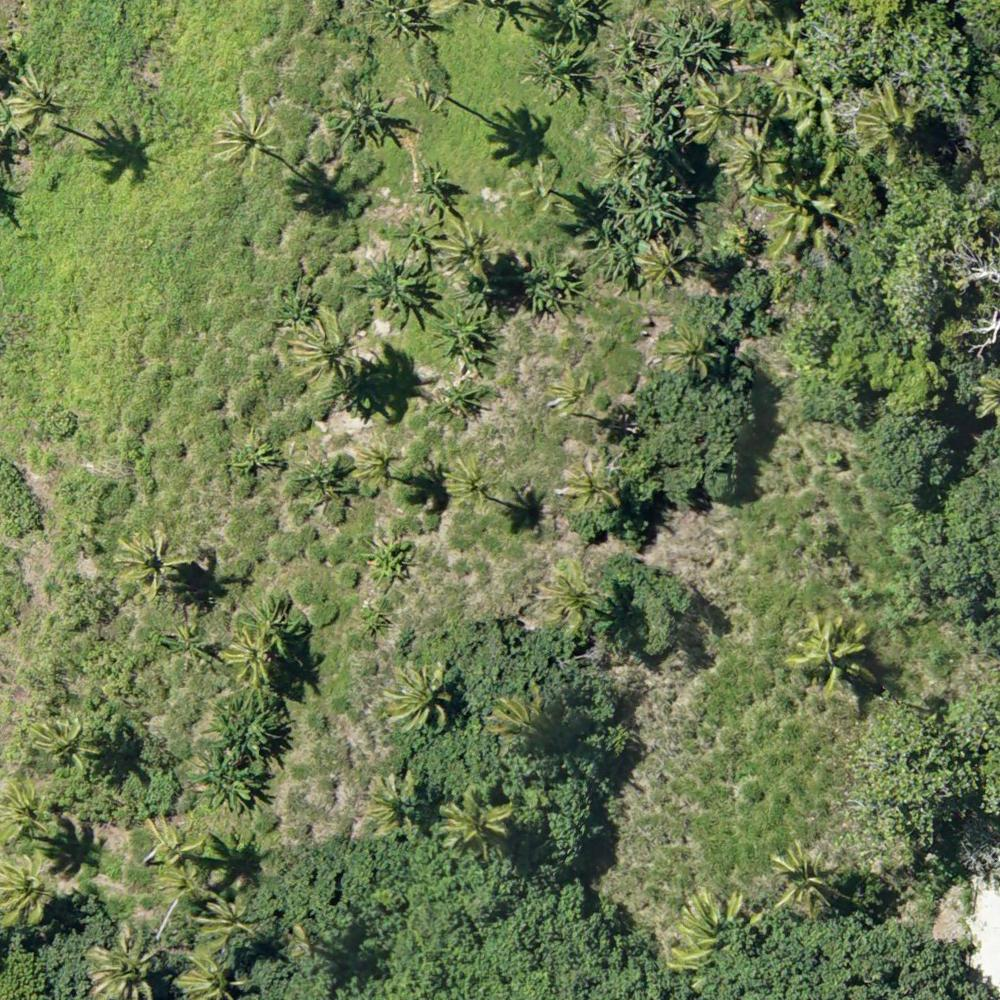Palm: (790, 614, 879, 697), (81, 929, 162, 1000), (851, 84, 921, 158), (114, 533, 193, 598), (382, 665, 451, 738), (772, 840, 837, 910), (439, 790, 512, 852), (211, 107, 280, 172), (295, 318, 361, 385), (534, 561, 603, 625), (1, 856, 65, 923), (32, 714, 97, 776), (7, 67, 66, 135), (197, 890, 261, 950), (559, 458, 624, 517), (442, 451, 502, 514), (361, 774, 422, 833), (685, 77, 741, 141), (220, 632, 279, 690), (1, 784, 52, 851), (438, 219, 495, 276), (659, 322, 717, 378), (548, 364, 598, 425), (351, 435, 402, 489), (639, 233, 690, 285)
